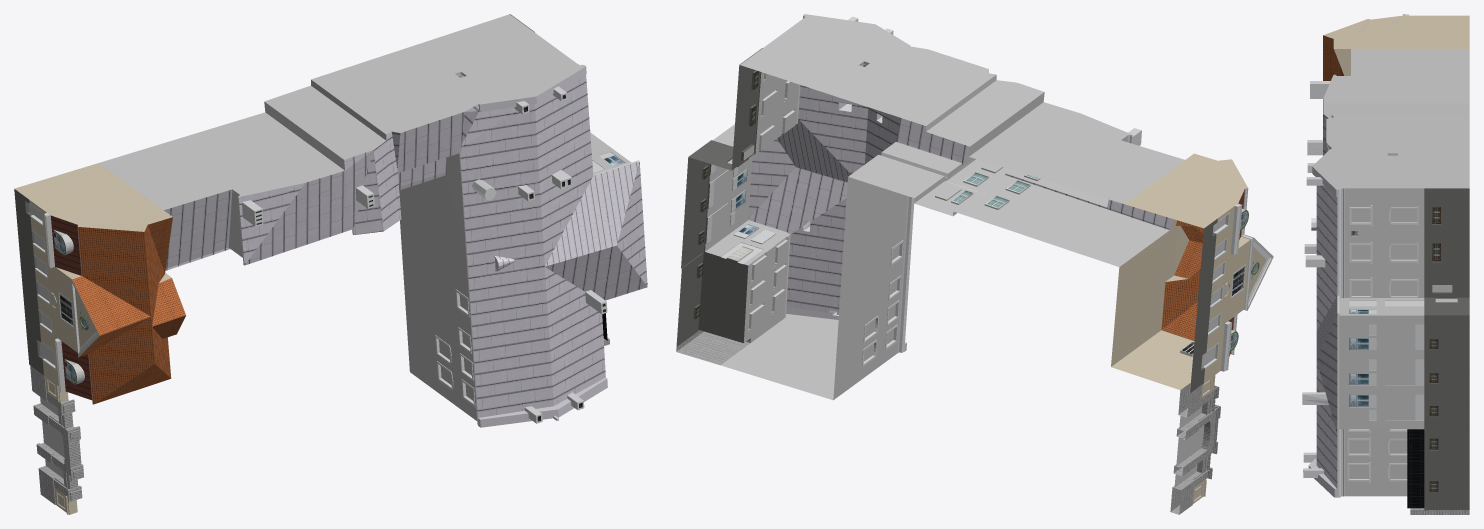
Rendered from Aia11.obj.
3 renders of one model, left to right at view 1: azimuth 30°, elevation 25°; view 2: azimuth 150°, elevation 25°; view 3: azimuth 270°, elevation 25°, orthographic. The views are drawn at different scales.
Parts seen in each view (by area): view 1: Aia11; view 2: Aia11; view 3: Aia11.
Boxes of the visible parts, box(x1,y1,x2,y2) form: Aia11: box(14, 14, 647, 514); Aia11: box(676, 14, 1273, 514); Aia11: box(1302, 14, 1469, 514).
Size of the model in its own units: 48.72 by 29.94 by 13.53.
